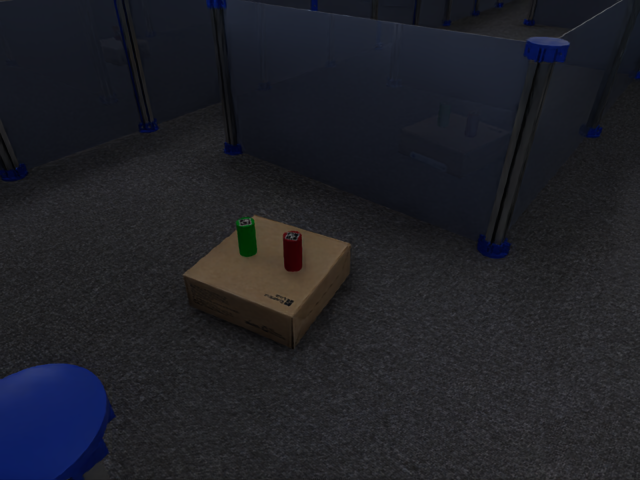puck_green_cyl: (236, 217, 256, 256)
puck_red_cyl: (283, 231, 301, 271)
